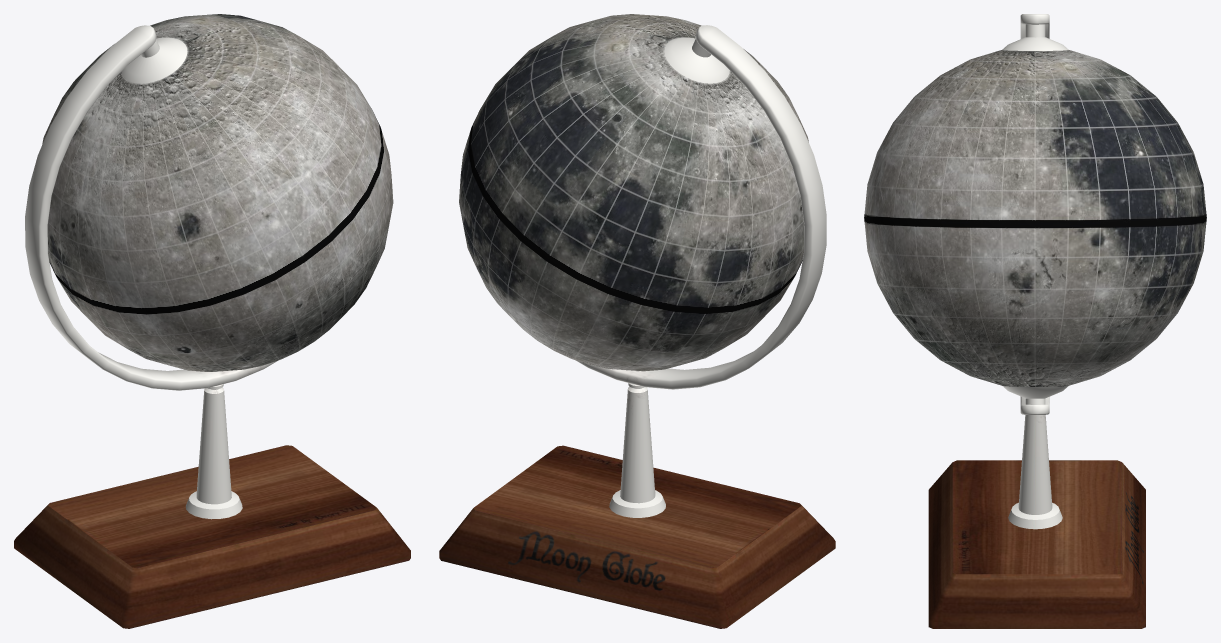
Rendered from moon_globe.glb.
The picture shows the model from 3 angles, left to right: view 1: azimuth 30°, elevation 25°; view 2: azimuth 150°, elevation 25°; view 3: azimuth 270°, elevation 25°; orthographic projection. The views are drawn at different scales.
Visible parts, largest first — view 1: sphere, jointedBreakable_main; view 2: sphere, jointedBreakable_main, words; view 3: sphere, jointedBreakable_main, words.
Part boxes in pixels (bbox=[...]): sphere: bbox=[42, 14, 393, 371]; jointedBreakable_main: bbox=[14, 25, 410, 628]; sphere: bbox=[459, 14, 808, 371]; jointedBreakable_main: bbox=[439, 25, 835, 628]; words: bbox=[508, 531, 665, 590]; sphere: bbox=[864, 50, 1206, 386]; jointedBreakable_main: bbox=[928, 14, 1145, 628]; words: bbox=[1125, 492, 1143, 584].
Size of the model in its own units: 28.27 by 43.39 by 26.
2 materials, 2 textured.
